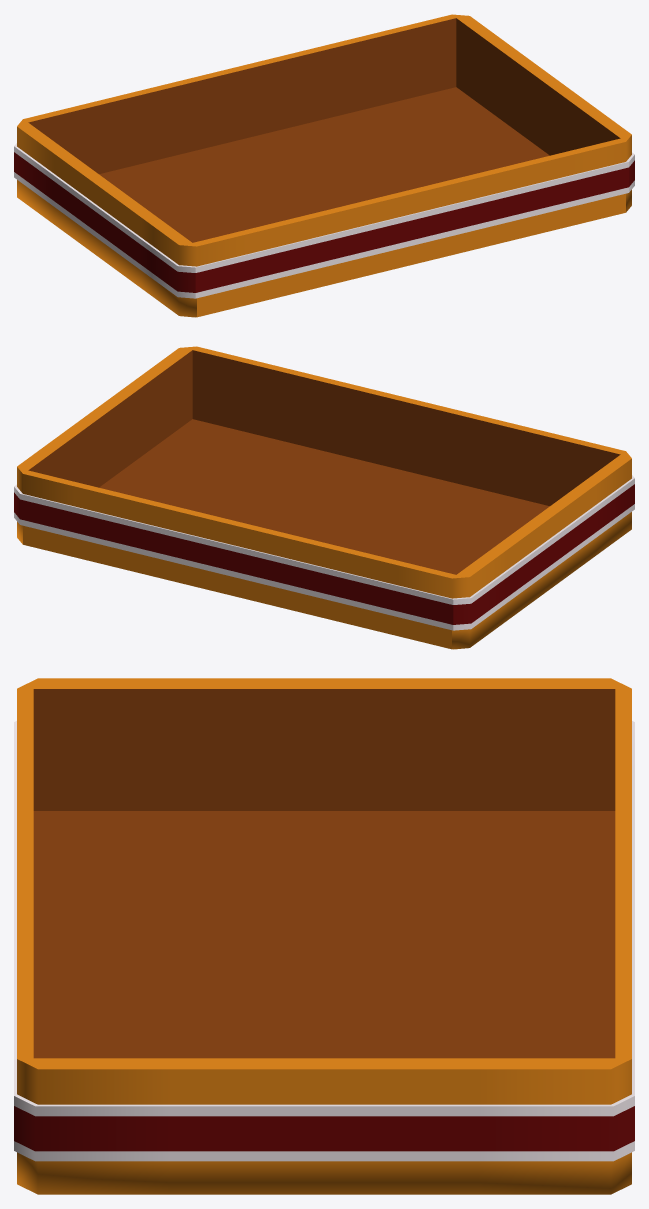
File: Choco3-1.fbx
3 renders of one model, top to bottom at view 1: azimuth 30°, elevation 25°; view 2: azimuth 150°, elevation 25°; view 3: azimuth 270°, elevation 25°, orthographic. The views are drawn at different scales.
Parts seen in each view (by area): view 1: Choco3-1; view 2: Choco3-1; view 3: Choco3-1.
Boxes of the visible parts, x1,y1,x2,y2 form: Choco3-1: (14,14,634,317); Choco3-1: (14,346,634,649); Choco3-1: (14,678,634,1194).
Bounding box in the file's own units: 24.13 × 3.93 × 16.05.
